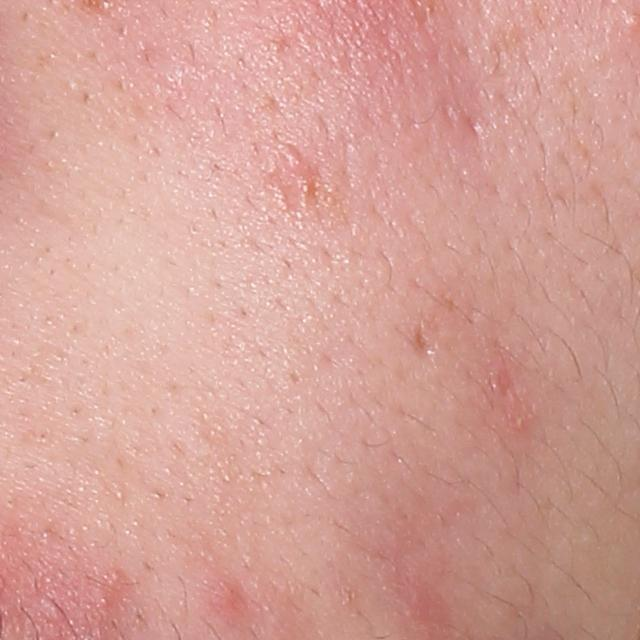atrophic_scar: (413, 317, 436, 360)
